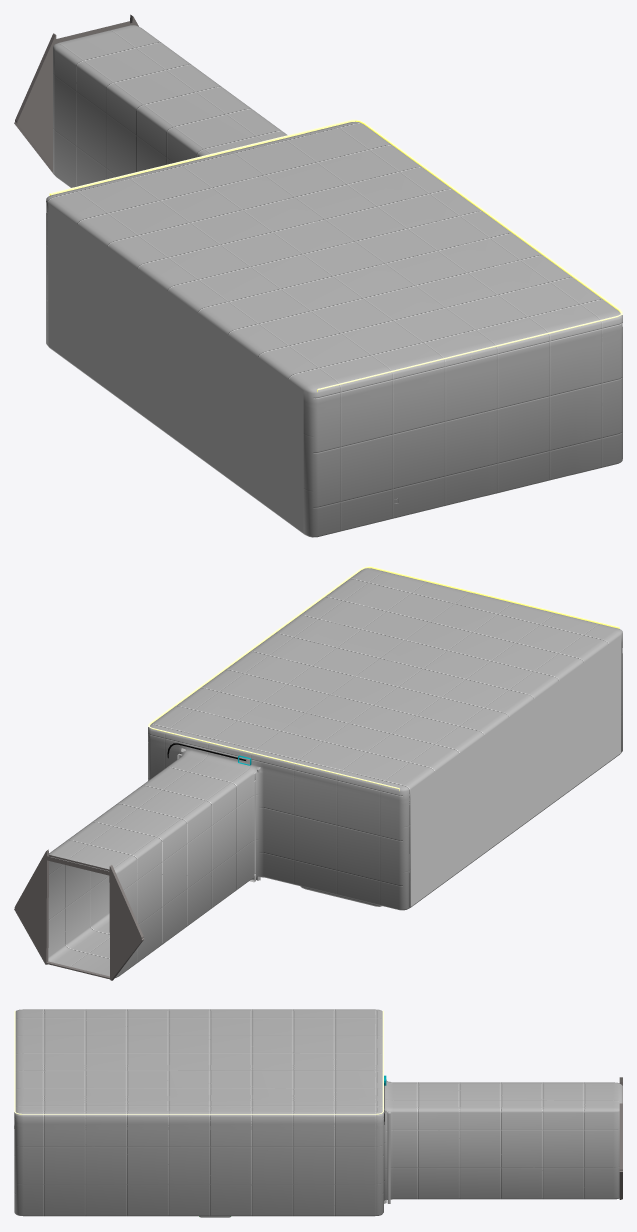
The model's file is SceneMirrorPackage2.fbx.
3 renders of one model, top to bottom at view 1: azimuth 30°, elevation 25°; view 2: azimuth 150°, elevation 25°; view 3: azimuth 270°, elevation 25°, orthographic. The views are drawn at different scales.
Parts seen in each view (by area): view 1: PieceMirrorPrincipal, mirooir, Module_Couloir, EmmissivePiece; view 2: PieceMirrorPrincipal, mirooir, Module_Couloir, EmmissivePiece; view 3: PieceMirrorPrincipal, EmmissivePiece, Module_Couloir, PorteDHight.
Part boxes in pixels (<box>): PieceMirrorPrincipal: <box>46,25,622,537</box>; mirooir: <box>48,203,303,532</box>; Module_Couloir: <box>14,14,138,174</box>; EmmissivePiece: <box>49,119,622,391</box>; PieceMirrorPrincipal: <box>48,568,622,977</box>; mirooir: <box>411,636,620,906</box>; Module_Couloir: <box>14,849,143,980</box>; EmmissivePiece: <box>148,566,619,790</box>; PieceMirrorPrincipal: <box>14,1009,622,1216</box>; EmmissivePiece: <box>14,1010,383,1114</box>; Module_Couloir: <box>619,1077,622,1199</box>; PorteDHight: <box>387,1081,390,1203</box>.
Bounding box in the file's own units: 1297 × 595 × 3133.
